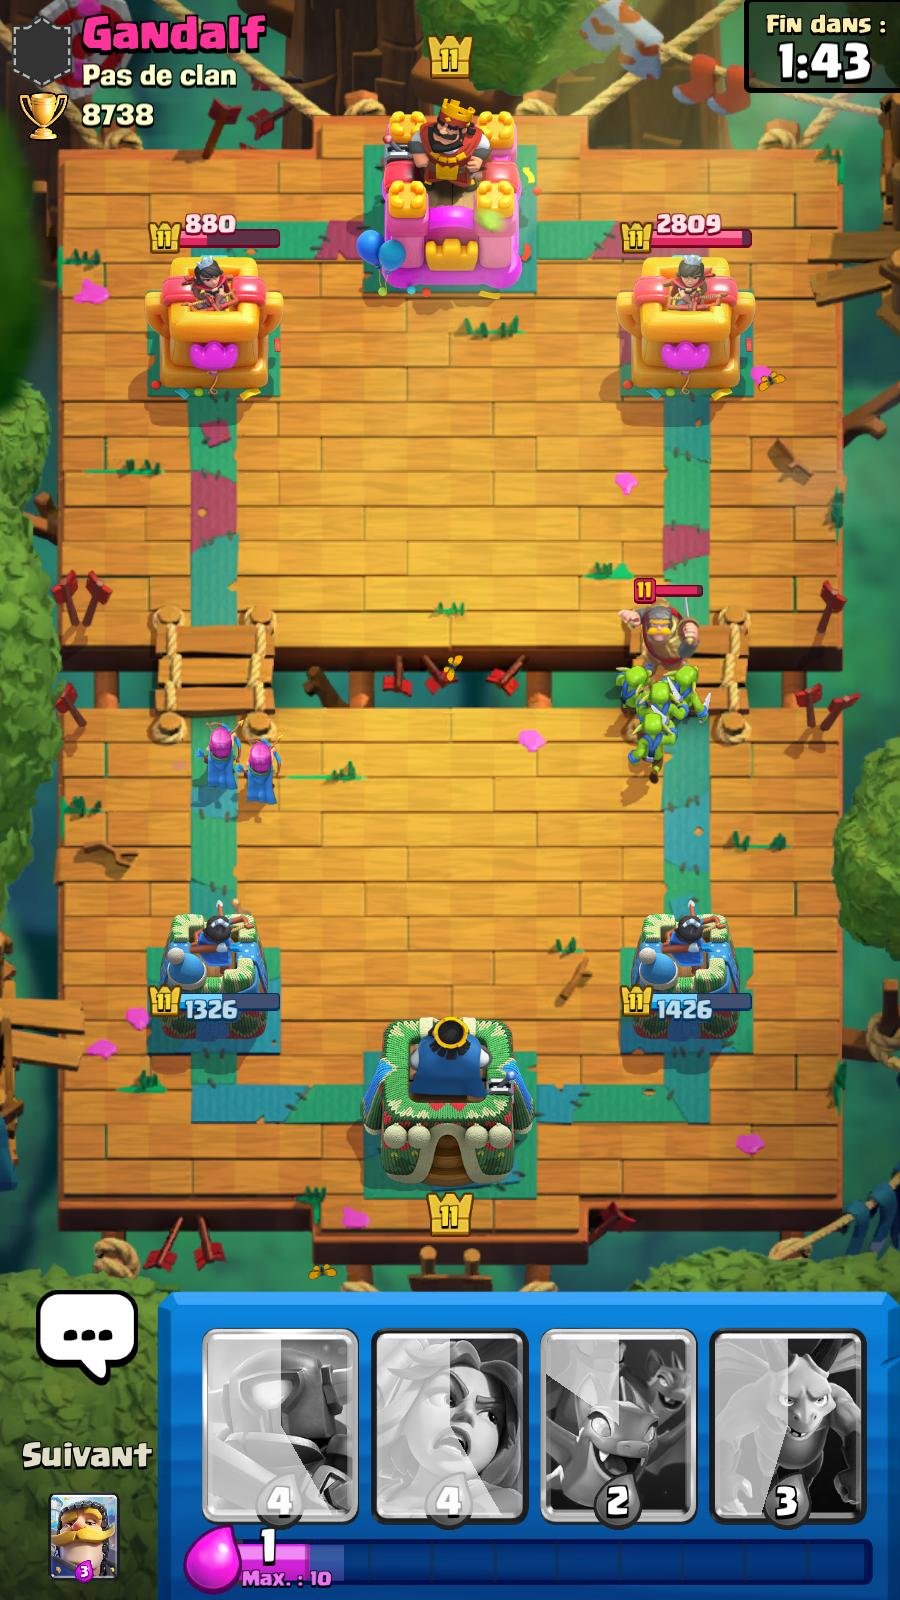archere: (240, 726, 299, 813), (198, 713, 249, 808)
chevalier: (620, 574, 714, 681)
gobelin: (670, 665, 715, 736), (629, 718, 677, 784), (642, 679, 685, 745), (608, 651, 649, 708)
